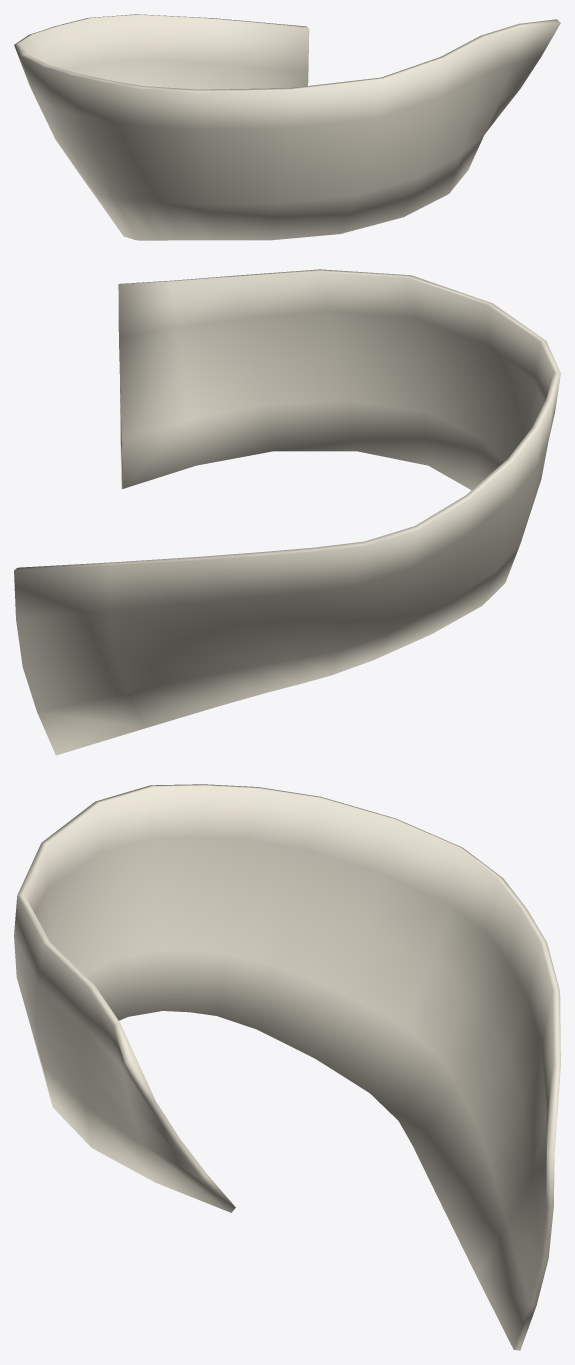
The picture shows the model from 3 angles, top to bottom: view 1: azimuth 30°, elevation 25°; view 2: azimuth 150°, elevation 25°; view 3: azimuth 270°, elevation 25°; orthographic projection. The views are drawn at different scales.
Visible parts, largest first — view 1: ZA_2d0de32f19f80f1c; view 2: ZA_2d0de32f19f80f1c; view 3: ZA_2d0de32f19f80f1c.
Part boxes in pixels (x1,y1,x2,y2): ZA_2d0de32f19f80f1c: [14, 14, 560, 240]; ZA_2d0de32f19f80f1c: [14, 269, 560, 755]; ZA_2d0de32f19f80f1c: [14, 784, 560, 1350].
Bounding box in the file's own units: 0.025 × 0.0173 × 0.0221.
